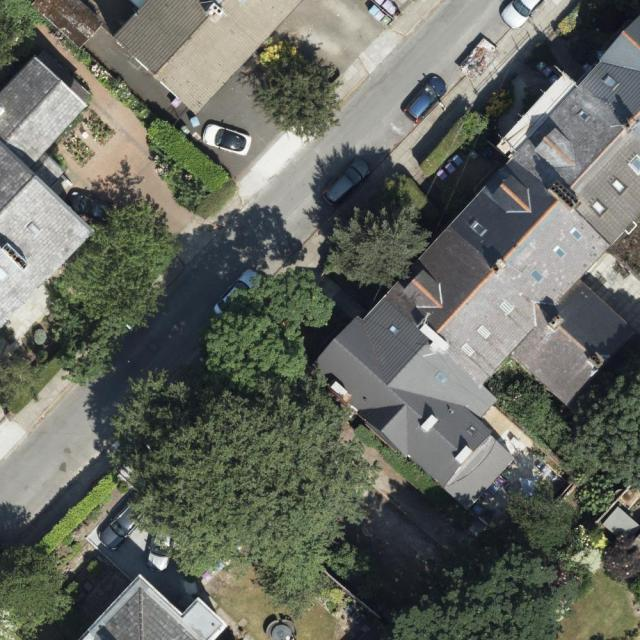roof: (311, 15, 640, 515), (0, 59, 94, 332), (113, 0, 304, 112), (78, 576, 226, 639)
skylight: (601, 73, 620, 91), (25, 220, 42, 238), (470, 221, 487, 239), (527, 268, 545, 285), (589, 198, 605, 215), (568, 226, 584, 242), (609, 178, 625, 194), (387, 322, 401, 337), (552, 244, 566, 259), (434, 371, 448, 385), (578, 110, 591, 124)
